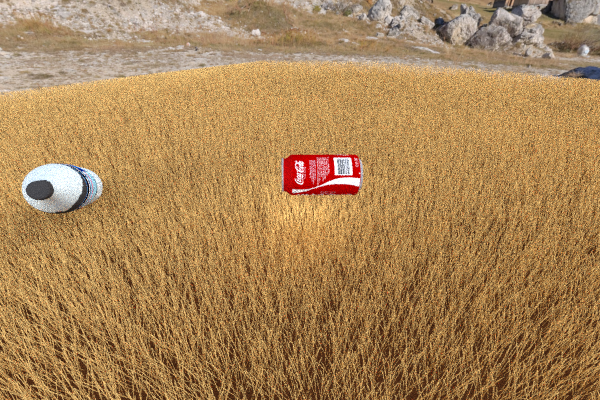Plastic Bottle: (21, 163, 102, 213), (281, 154, 363, 195), (299, 75, 332, 95)
